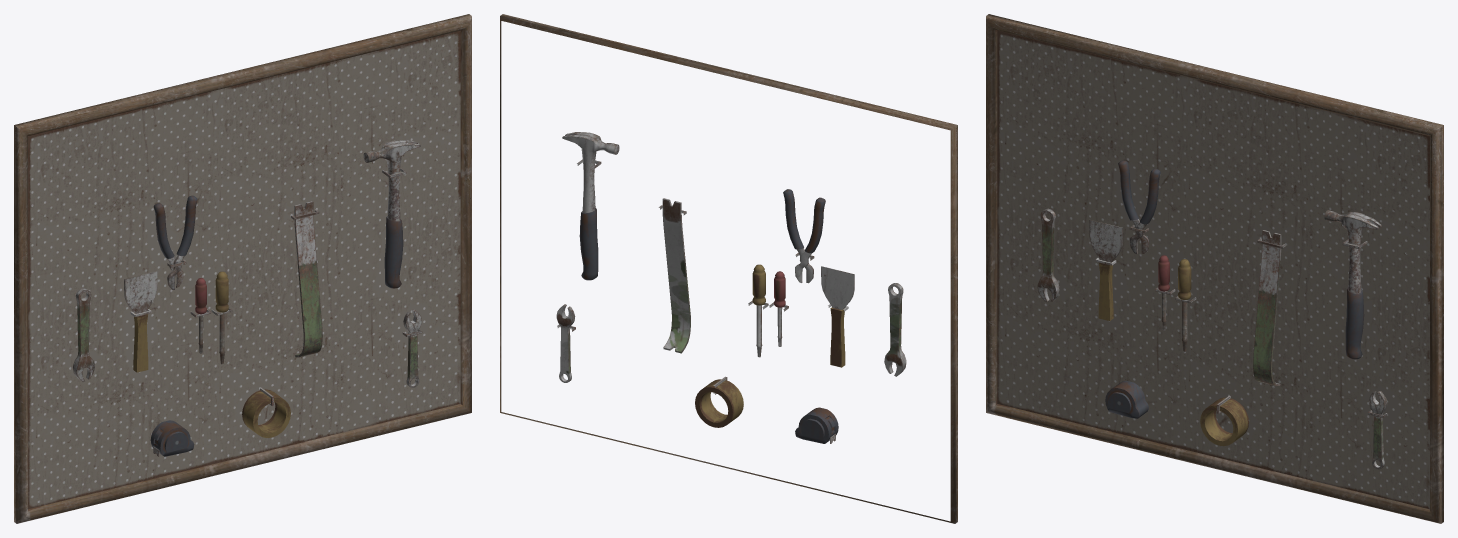
The model's file is SM_toolboard.gltf.
The picture shows the model from 3 angles, left to right: view 1: azimuth 30°, elevation 25°; view 2: azimuth 150°, elevation 25°; view 3: azimuth 330°, elevation 25°; orthographic projection.
Parts seen in each view (by area): view 1: SM_toolboard; view 2: SM_toolboard; view 3: SM_toolboard.
Boxes of the visible parts, bbox=[...] form: SM_toolboard: bbox=[14, 14, 471, 523]; SM_toolboard: bbox=[500, 14, 957, 523]; SM_toolboard: bbox=[986, 14, 1443, 523].
Bounding box in the file's own units: 1.2 × 1 × 0.0819.
Materials: 1 (1 with a texture image).
